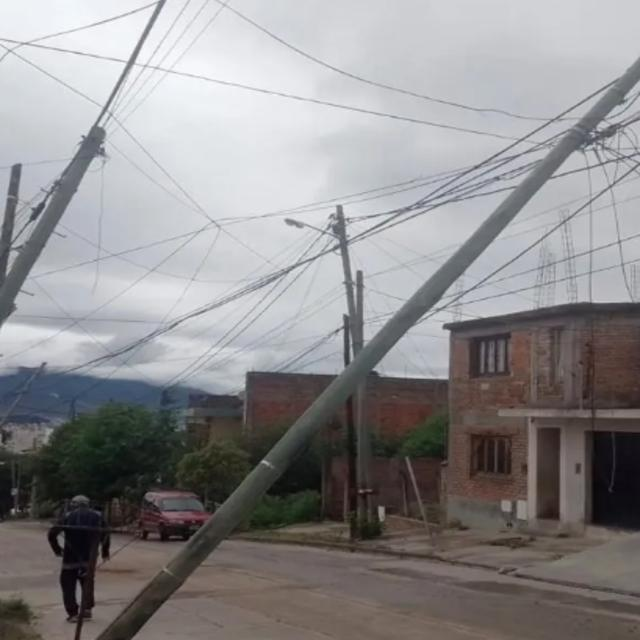Inclined Pole: (84, 48, 640, 640), (0, 119, 113, 332)
